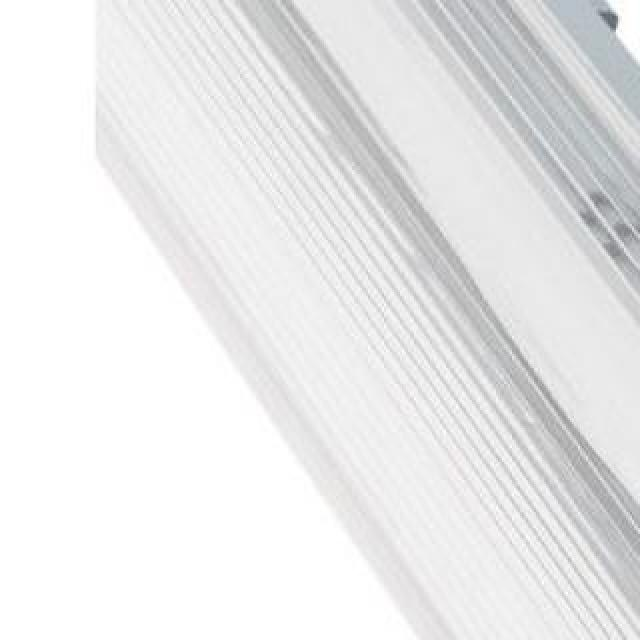fluorescent tube: (124, 16, 640, 640), (204, 26, 640, 640)
